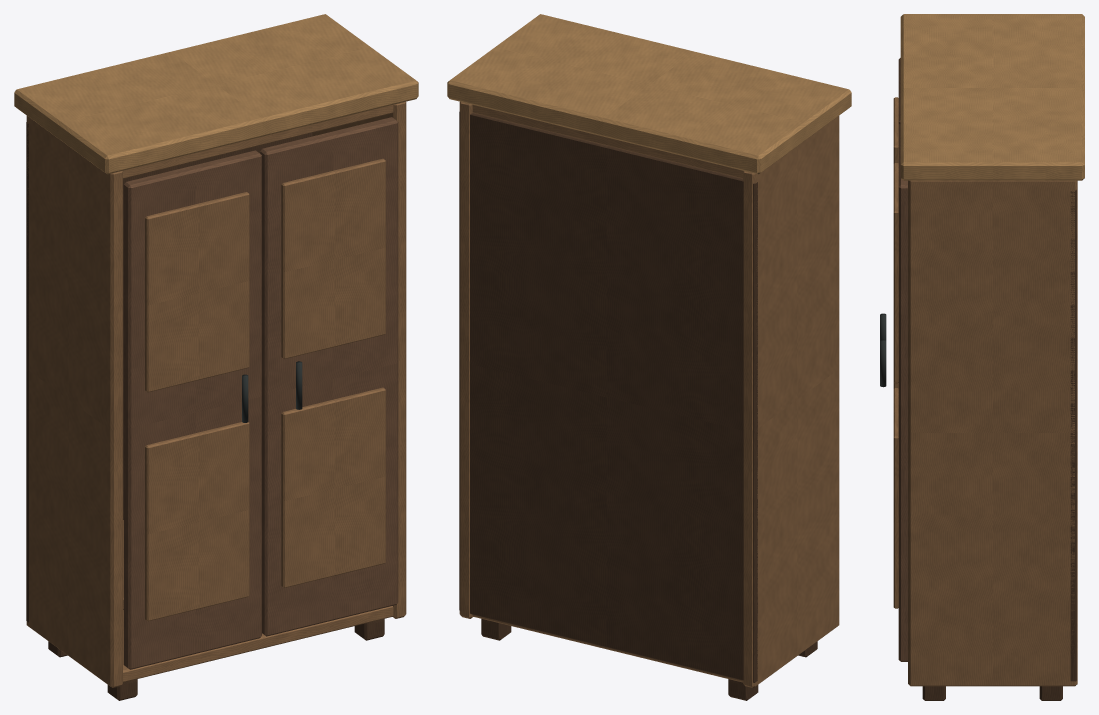
File: wardrobe.glb
The picture shows the model from 3 angles, left to right: view 1: azimuth 30°, elevation 25°; view 2: azimuth 150°, elevation 25°; view 3: azimuth 270°, elevation 25°; orthographic projection.
Visible parts, largest first — view 1: Wardrobe_body, Wardrobe_door_leaf, Wardrobe_door_leaf.001; view 2: Wardrobe_body; view 3: Wardrobe_body, Wardrobe_door_leaf.001, Wardrobe_door_leaf.
Boxes of the visible parts, x1,y1,x2,y2 form: Wardrobe_body: (14, 14, 418, 700); Wardrobe_door_leaf: (123, 150, 261, 669); Wardrobe_door_leaf.001: (260, 117, 398, 636); Wardrobe_body: (447, 14, 851, 700); Wardrobe_body: (900, 14, 1084, 700); Wardrobe_door_leaf.001: (880, 123, 907, 661); Wardrobe_door_leaf: (880, 58, 900, 388).
Size of the model in its own units: 1.22 by 2.08 by 0.701.
5 materials, 5 textured.
